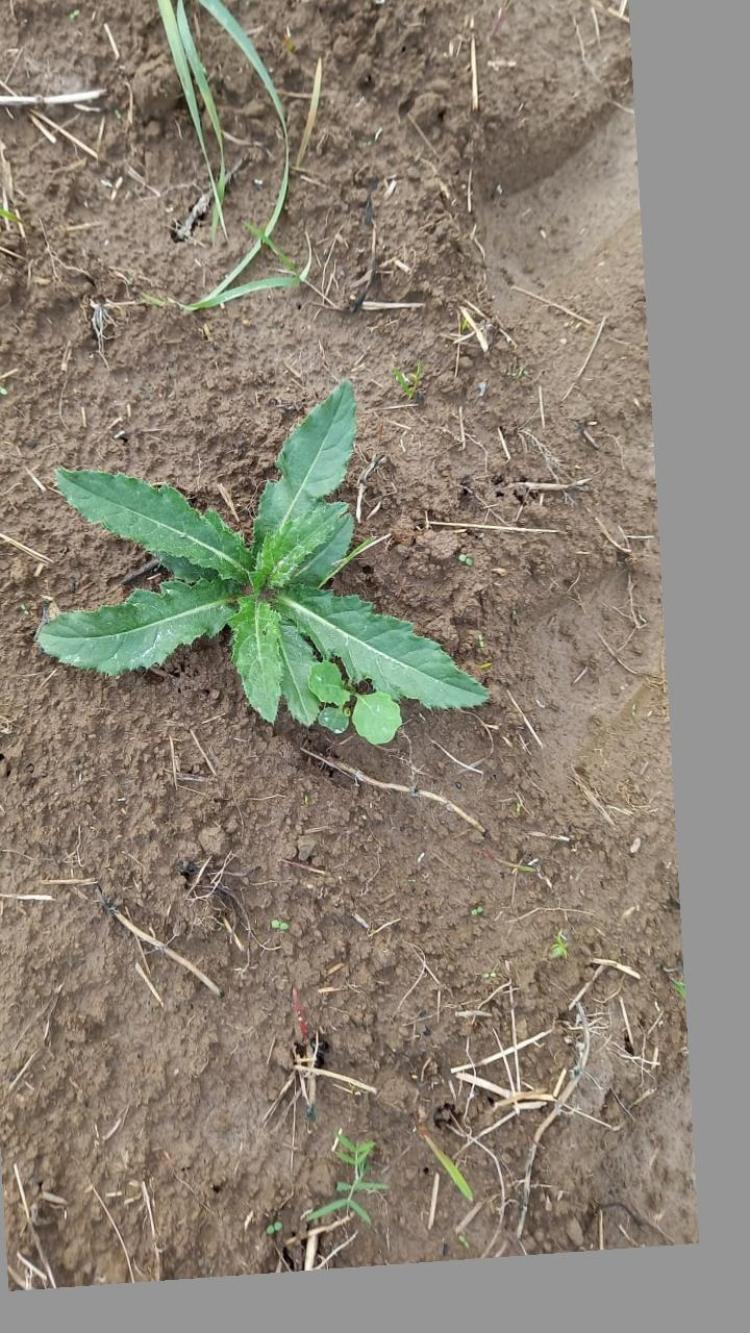osot: (35, 383, 500, 758)
